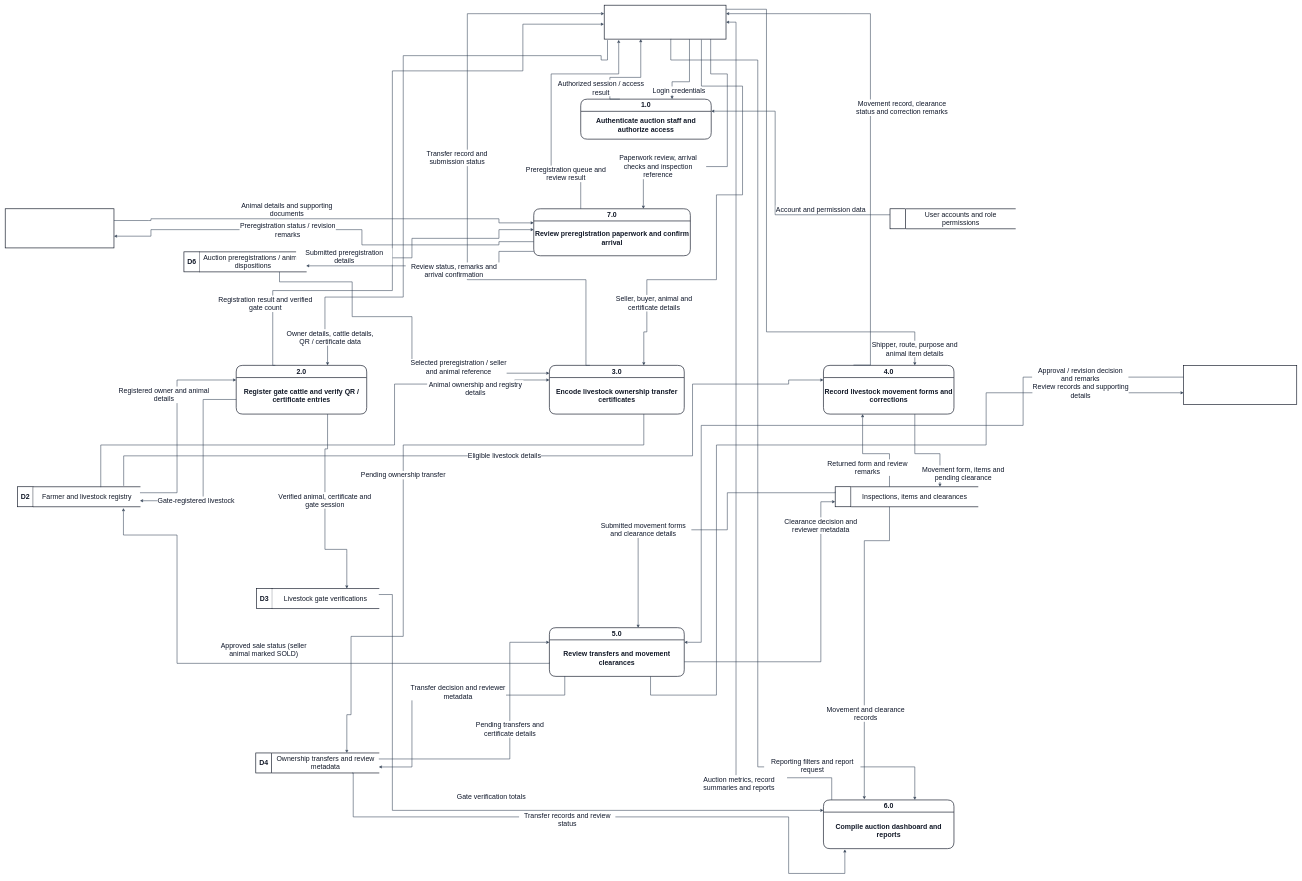
This 1302x881 diagram has some shape labels left out. The centre of each missing label's shape, as x and y in pixels:
AUCTION OFFICE STAFF: the point at 665,22
D1: the point at 898,218
D5: the point at 843,496
FARMER: the point at 59,228
MAO / ADMIN: the point at 1240,385
